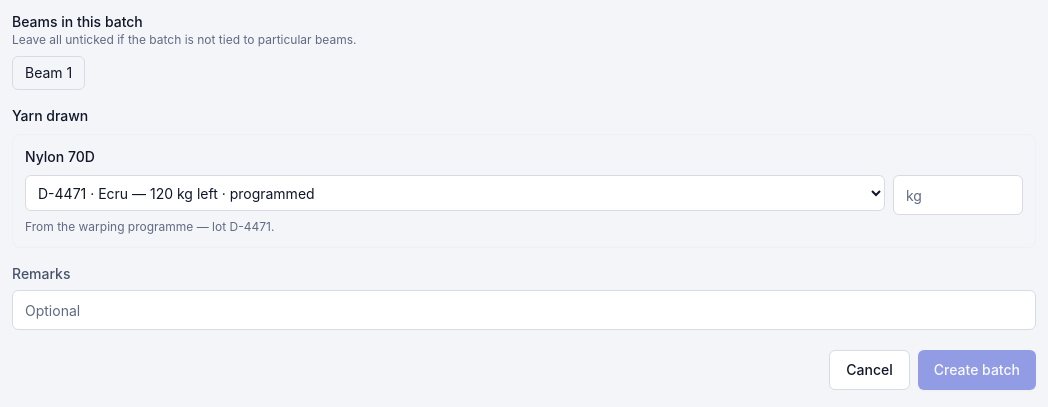
Scenario: the operator overriding it › warns that this is not what the programme says
The width and height of the screenshot is (1048, 407).
Select "D-4472 · Ecru — 80 kg left" in the dropdown named "Dye lot for Nylon 70D" at (455, 193), box [25, 175, 885, 211]
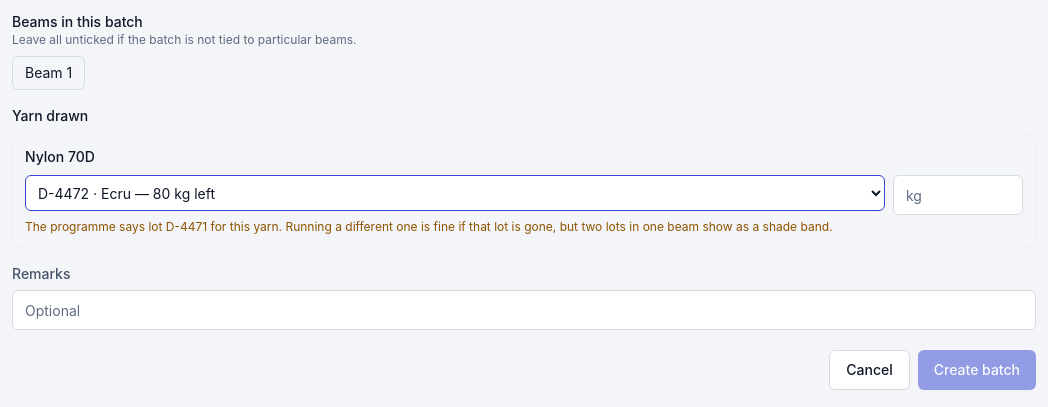
expect the text "programme says lot D-4471" is shown: met, box [25, 219, 833, 234]
expect the text "shade band" is shown: met, box [207, 219, 833, 234]
